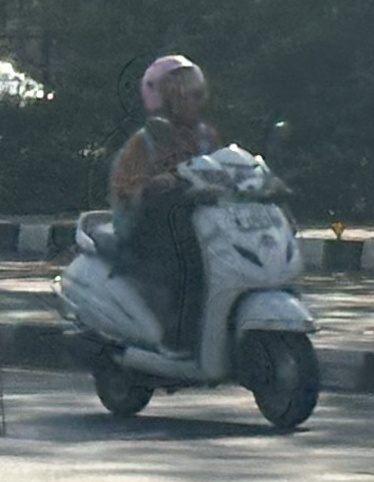BikeWithRider: (57, 51, 331, 434)
Helmet: (141, 54, 210, 133)
